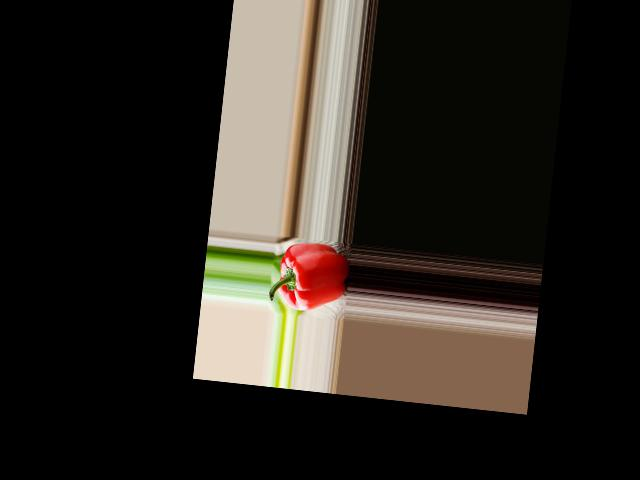bell_pepper: (269, 240, 352, 316)
